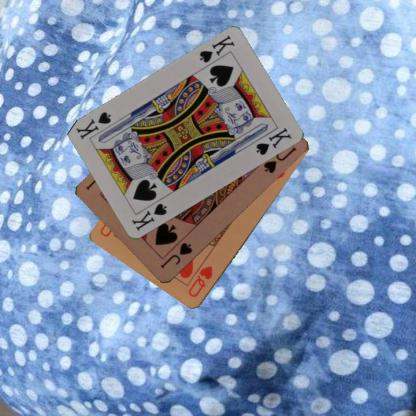Js: (158, 240, 194, 270)
Ks: (196, 32, 236, 65), (129, 200, 168, 233)
Qh: (186, 263, 214, 299)
